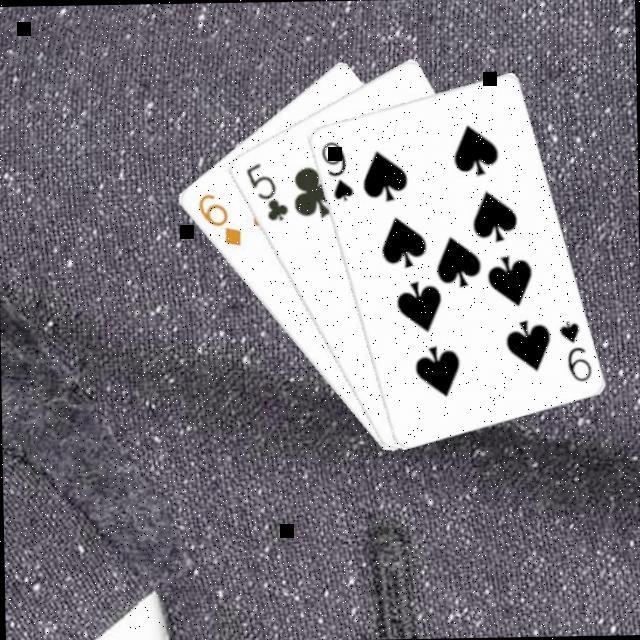5C: (240, 159, 290, 226)
6D: (192, 190, 243, 251)
9S: (316, 137, 355, 206), (554, 317, 593, 385)
